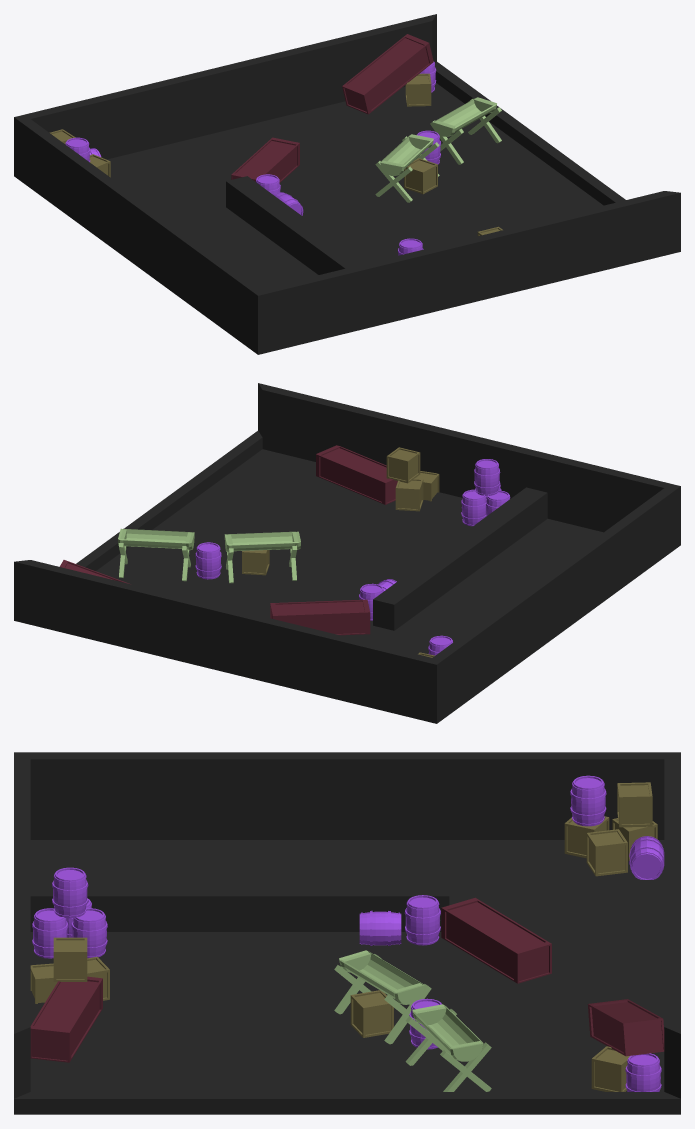
Rendered from caly lvl (moze sie przyda).fbx.
The picture shows the model from 3 angles, top to bottom: view 1: azimuth 30°, elevation 25°; view 2: azimuth 150°, elevation 25°; view 3: azimuth 270°, elevation 25°; orthographic projection. The views are drawn at different scales.
Parts seen in each view (by area): view 1: Plane, skrzynka duża prostokąt bez tekstury.002, cos dla konikow bez tekstury, skrzynka duża prostokąt bez tekstury, cos dla konikow bez tekstury.001, skszynka kwadrat bez tekstury.005, skszynka kwadrat bez tekstury.003; view 2: Plane, skrzynka duża prostokąt bez tekstury.001, skrzynka duża prostokąt bez tekstury, cos dla konikow bez tekstury, cos dla konikow bez tekstury.001, skszynka kwadrat bez tekstury.001, beczka bez tekstur.008, beczka bez tekstur.004, skszynka kwadrat bez tekstury, beczka bez tekstur.003, skszynka kwadrat bez tekstury.005; view 3: Plane, skrzynka duża prostokąt bez tekstury, skrzynka duża prostokąt bez tekstury.001, cos dla konikow bez tekstury, skrzynka duża prostokąt bez tekstury.002, cos dla konikow bez tekstury.001, skszynka kwadrat bez tekstury.006, skszynka kwadrat bez tekstury.005, beczka bez tekstur.009, beczka bez tekstur.004, beczka bez tekstur.006, skszynka kwadrat bez tekstury.008 (+11 smaller).
Part boxes in pixels (left/top/right/bottom): Plane: left=14, top=14, right=680, bottom=354; skrzynka duża prostokąt bez tekstury.002: left=342, top=34, right=433, bottom=114; cos dla konikow bez tekstury: left=430, top=97, right=501, bottom=164; skrzynka duża prostokąt bez tekstury: left=231, top=137, right=299, bottom=182; cos dla konikow bez tekstury.001: left=375, top=134, right=439, bottom=202; skszynka kwadrat bez tekstury.005: left=404, top=158, right=437, bottom=194; skszynka kwadrat bez tekstury.003: left=405, top=73, right=431, bottom=106; Plane: left=14, top=383, right=680, bottom=723; skrzynka duża prostokąt bez tekstury.001: left=316, top=445, right=397, bottom=504; skrzynka duża prostokąt bez tekstury: left=270, top=599, right=370, bottom=635; cos dla konikow bez tekstury: left=118, top=528, right=194, bottom=581; cos dla konikow bez tekstury.001: left=224, top=531, right=300, bottom=583; skszynka kwadrat bez tekstury.001: left=386, top=447, right=420, bottom=483; beczka bez tekstur.008: left=195, top=542, right=221, bottom=579; beczka bez tekstur.004: left=474, top=459, right=500, bottom=495; skszynka kwadrat bez tekstury: left=395, top=478, right=423, bottom=511; beczka bez tekstur.003: left=461, top=489, right=486, bottom=526; skszynka kwadrat bez tekstury.005: left=242, top=550, right=269, bottom=575; Plane: left=14, top=752, right=680, bottom=1114; skrzynka duża prostokąt bez tekstury: left=441, top=897, right=551, bottom=983; skrzynka duża prostokąt bez tekstury.001: left=30, top=976, right=102, bottom=1062; cos dla konikow bez tekstury: left=405, top=1004, right=491, bottom=1091; skrzynka duża prostokąt bez tekstury.002: left=587, top=999, right=664, bottom=1056; cos dla konikow bez tekstury.001: left=334, top=950, right=431, bottom=1044; skszynka kwadrat bez tekstury.006: left=586, top=829, right=627, bottom=876; skszynka kwadrat bez tekstury.005: left=350, top=990, right=393, bottom=1037; beczka bez tekstur.009: left=570, top=775, right=606, bottom=826; beczka bez tekstur.004: left=52, top=867, right=88, bottom=918; beczka bez tekstur.006: left=404, top=895, right=440, bottom=945; skszynka kwadrat bez tekstury.008: left=617, top=782, right=652, bottom=827.
Bounding box in the file's own units: 4000 × 570 × 4000.
